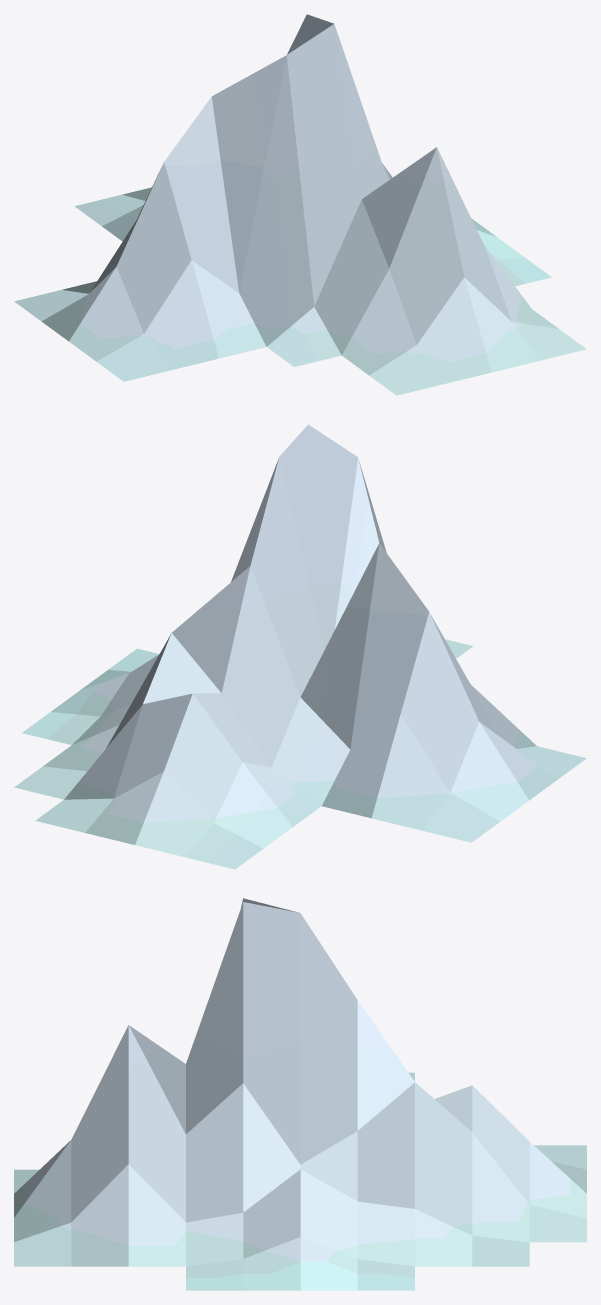
Rendered from SS_Glazier2.fbx.
The picture shows the model from 3 angles, top to bottom: view 1: azimuth 30°, elevation 25°; view 2: azimuth 150°, elevation 25°; view 3: azimuth 270°, elevation 25°; orthographic projection. The views are drawn at different scales.
Visible parts, largest first — view 1: Glazier2; view 2: Glazier2; view 3: Glazier2.
Boxes of the visible parts, left/top/right/bottom form: Glazier2: left=14, top=14, right=586, bottom=395; Glazier2: left=14, top=424, right=586, bottom=869; Glazier2: left=14, top=898, right=586, bottom=1290.
Size of the model in its own units: 4.65 by 2.91 by 5.17.
